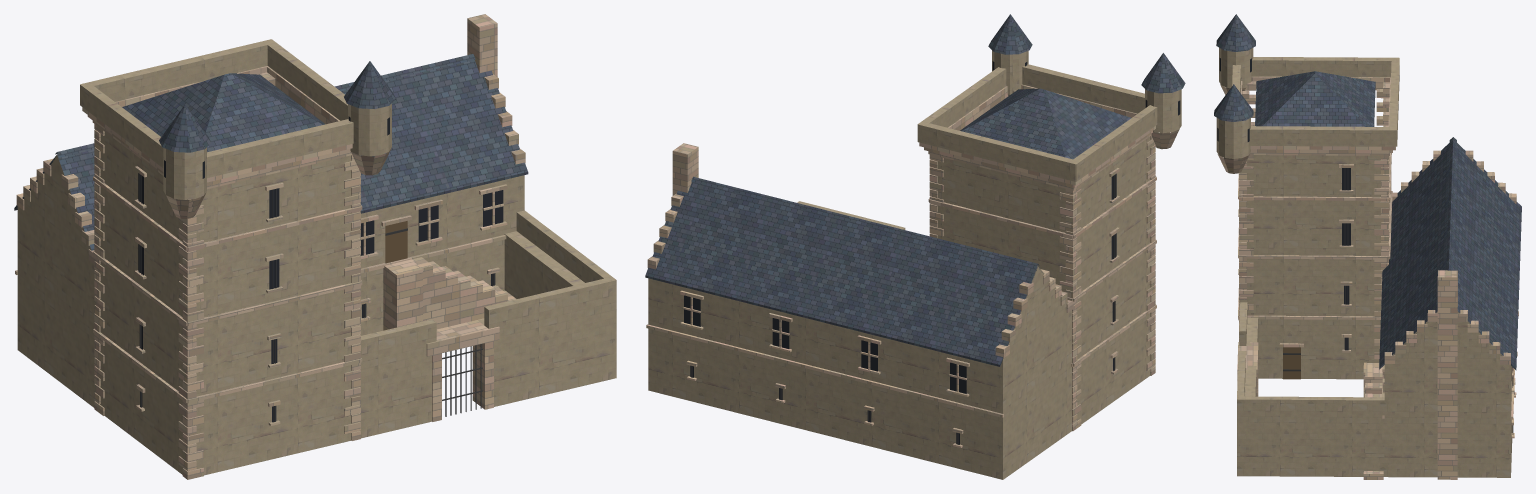
3 renders of one model, left to right at view 1: azimuth 30°, elevation 25°; view 2: azimuth 150°, elevation 25°; view 3: azimuth 270°, elevation 25°, orthographic. The views are drawn at different scales.
Visible parts, largest first — view 1: b001065_wall, b001065_dressed, b001065_slate, b001065_glass, b001065_iron, b001065_oak; view 2: b001065_wall, b001065_slate, b001065_dressed, b001065_glass; view 3: b001065_wall, b001065_slate, b001065_dressed, b001065_glass, b001065_oak, b001065_iron.
Part boxes in pixels (x1,y1,x2,y2): b001065_wall: (17,39,616,475); b001065_dressed: (15,14,525,479); b001065_slate: (14,54,528,250); b001065_glass: (138,116,503,422); b001065_iron: (139,174,494,422); b001065_oak: (385,221,407,263); b001065_wall: (648,50,1181,479); b001065_slate: (645,14,1185,366); b001065_dressed: (646,84,1179,447); b001065_glass: (684,61,1180,444); b001065_wall: (1216,47,1512,477); b001065_slate: (1214,14,1521,370); b001065_dressed: (1217,76,1518,479); b001065_glass: (1217,58,1512,387); b001065_oak: (1283,347,1300,379); b001065_iron: (1283,168,1514,434).
Size of the model in its own units: 23.33 by 18.2 by 17.09.
Materials: 6 (3 with a texture image).
